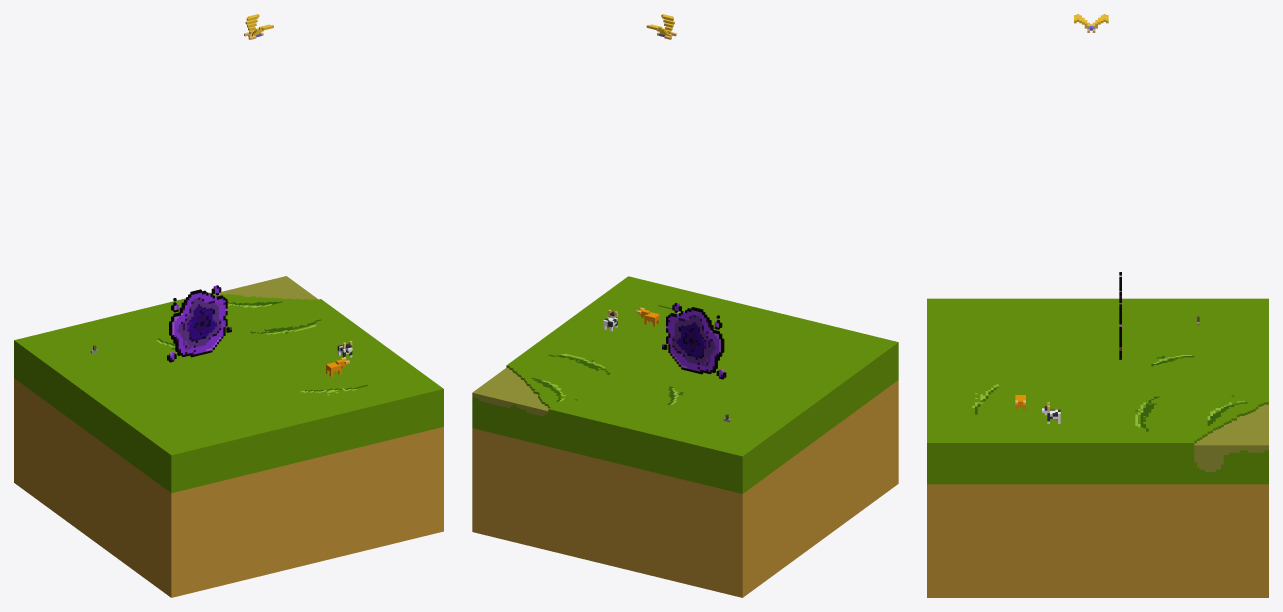
3 views of the same model, side by side, from view 1: azimuth 30°, elevation 25°; view 2: azimuth 150°, elevation 25°; view 3: azimuth 270°, elevation 25° (orthographic). The views are drawn at different scales.
Parts seen in each view (by area): view 1: 6H.001; view 2: 6H.001; view 3: 6H.001.
Boxes of the visible parts, x1,y1,x2,y2 form: 6H.001: (14, 14, 443, 597); 6H.001: (472, 14, 898, 597); 6H.001: (927, 14, 1268, 597).
Size of the model in its own units: 12.8 by 21.6 by 12.8.
Materials: 1 (1 with a texture image).
